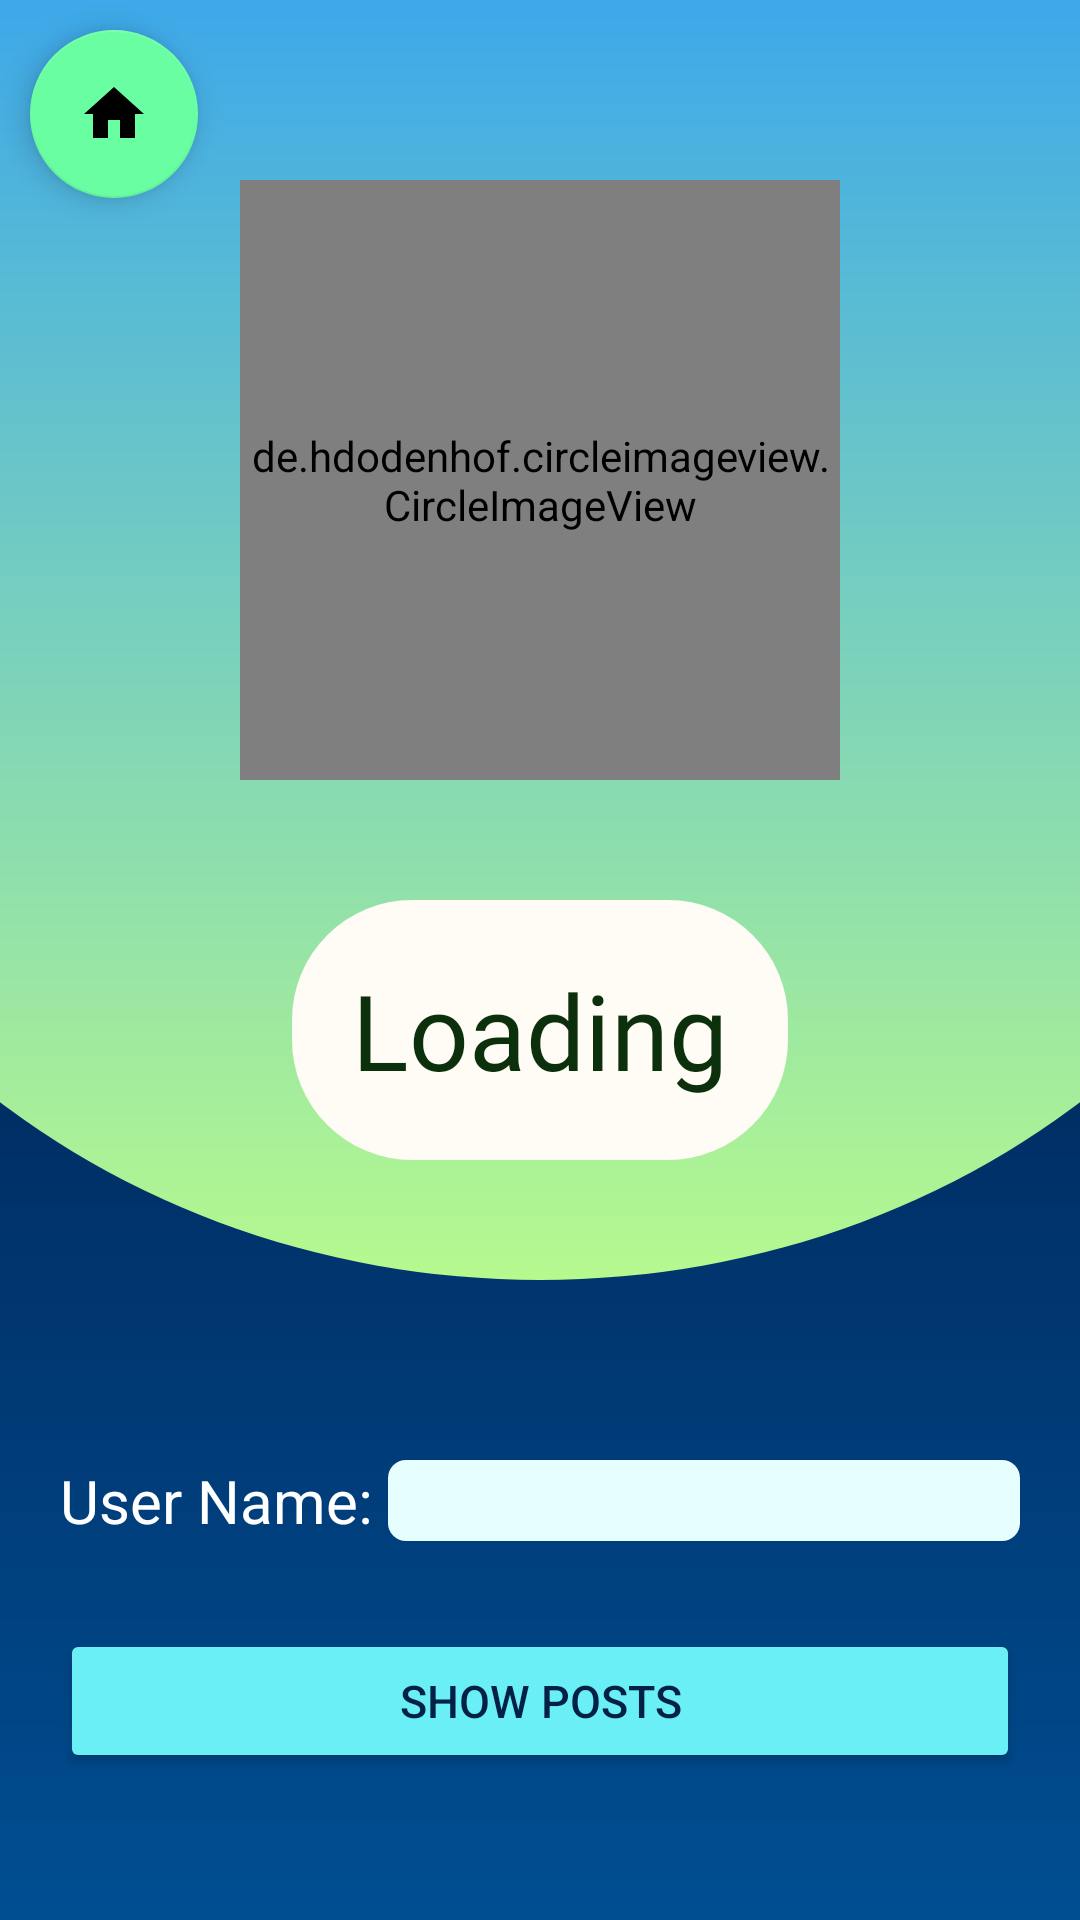

Icon bounding boxes for this 1080 × 1920 phone screenshot, format [left=x1, top=y1, right=x2, bottom=y2]:
home: [left=30, top=30, right=198, bottom=198]
